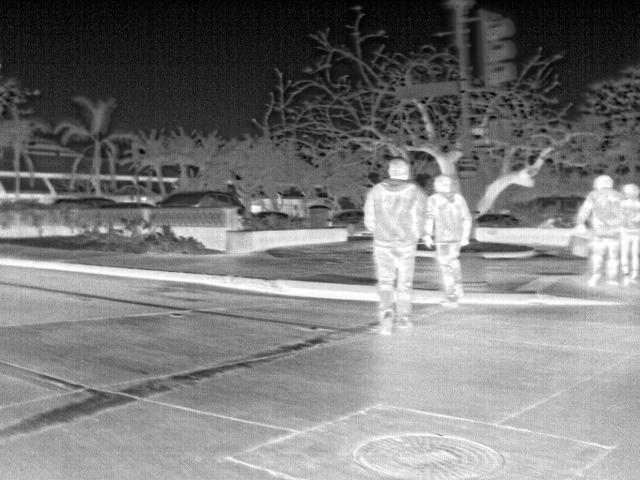car: (509, 193, 586, 229), (159, 192, 246, 220), (473, 210, 522, 228), (333, 206, 364, 226)
person: (362, 151, 431, 337), (423, 174, 478, 305), (574, 172, 624, 292), (617, 182, 640, 276)
